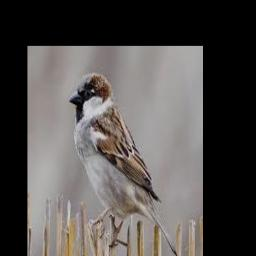Sparrow: (69, 72, 178, 256)
